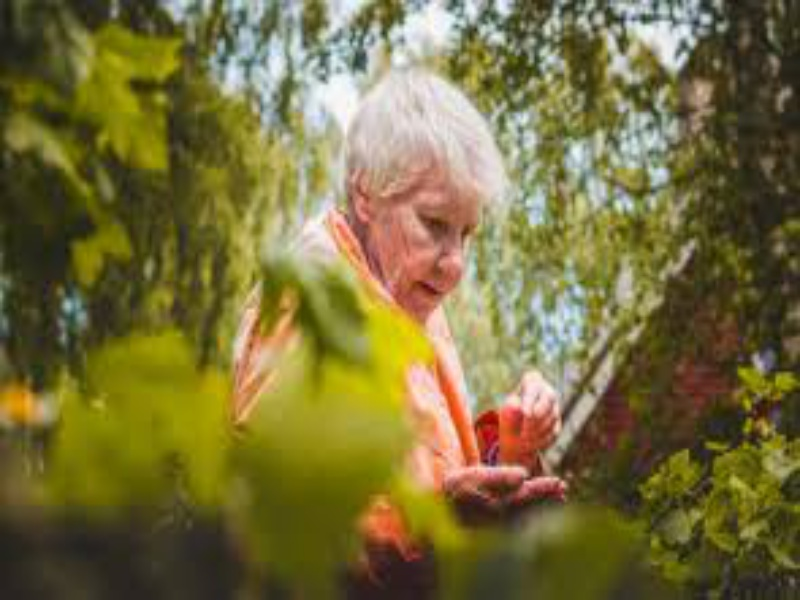TsisyArotava: (338, 82, 507, 329)
